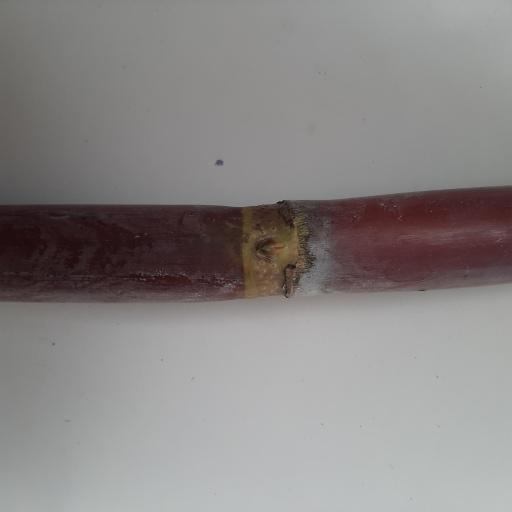Bud: (251, 234, 286, 263)
